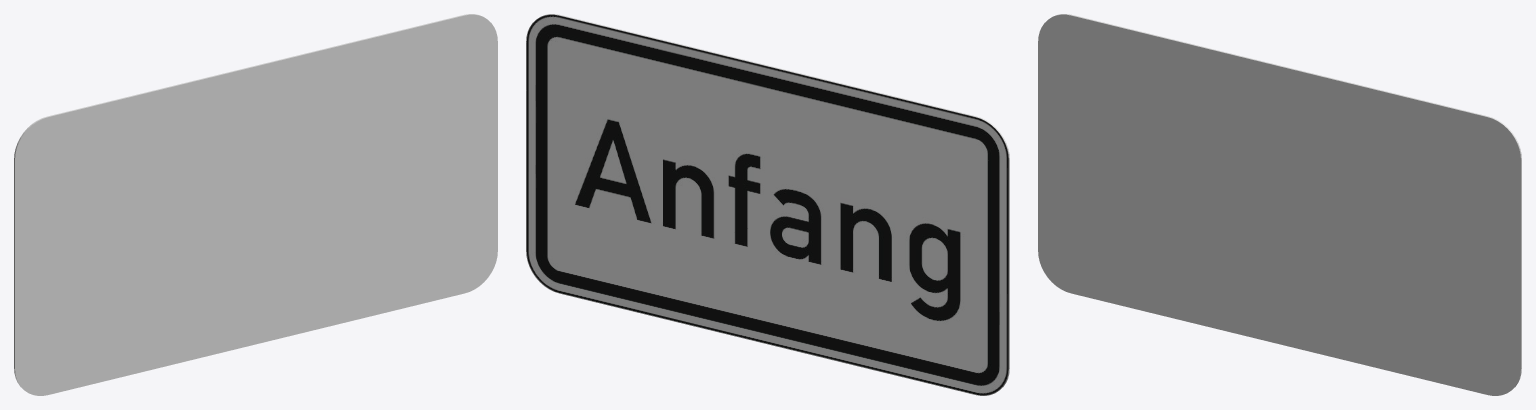
3 views of the same model, side by side, from view 1: azimuth 30°, elevation 25°; view 2: azimuth 150°, elevation 25°; view 3: azimuth 330°, elevation 25° (orthographic).
Visible parts, largest first — view 1: Plane; view 2: Plane; view 3: Plane.
Boxes of the visible parts, x1,y1,x2,y2 form: Plane: [14, 14, 497, 395]; Plane: [526, 14, 1009, 395]; Plane: [1038, 14, 1521, 395].
Size of the model in its own units: 0.6 by 0.33 by 0.002.
Materials: 2 (1 with a texture image).
